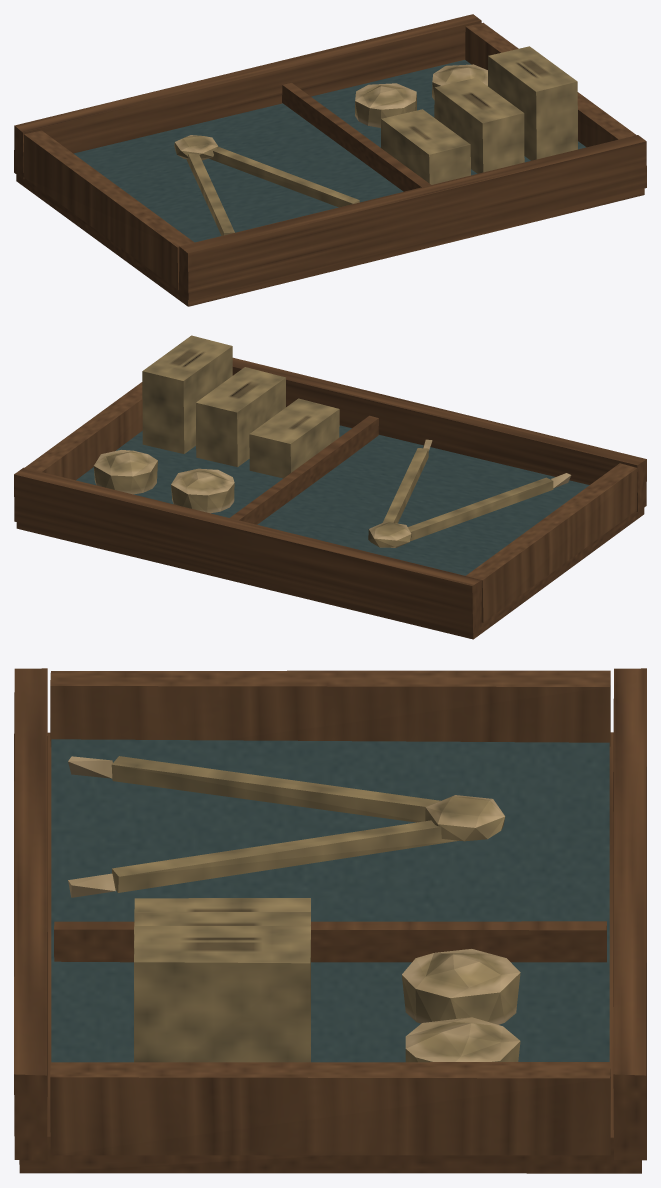
Rendered from DividerPartsTray_LOD2.fbx.
The picture shows the model from 3 angles, top to bottom: view 1: azimuth 30°, elevation 25°; view 2: azimuth 150°, elevation 25°; view 3: azimuth 270°, elevation 25°; orthographic projection. The views are drawn at different scales.
Visible parts, largest first — view 1: DividerPartsTray.001; view 2: DividerPartsTray.001; view 3: DividerPartsTray.001.
Part boxes in pixels (x1=…): DividerPartsTray.001: x1=14, y1=14, x2=646, y2=306; DividerPartsTray.001: x1=14, y1=335, x2=646, y2=639; DividerPartsTray.001: x1=14, y1=668, x2=646, y2=1173.
Bounding box in the file's own units: 0.6789 × 0.1402 × 0.4457.
1 material, 1 textured.
